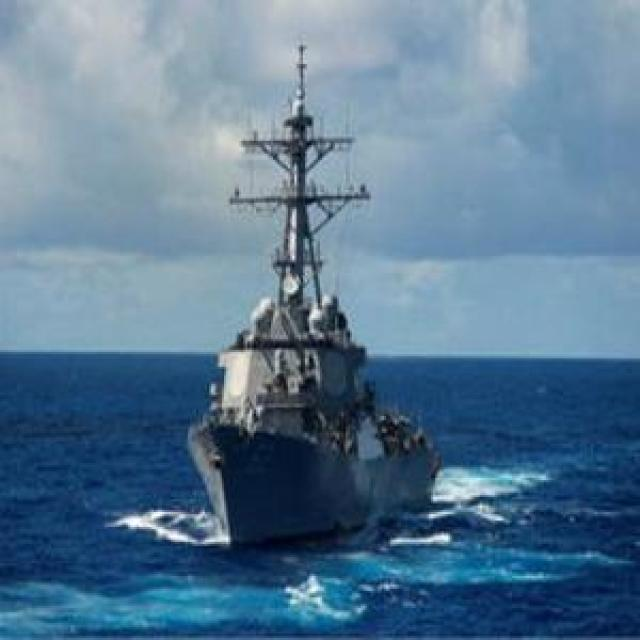navalvessels: (110, 74, 474, 518)
